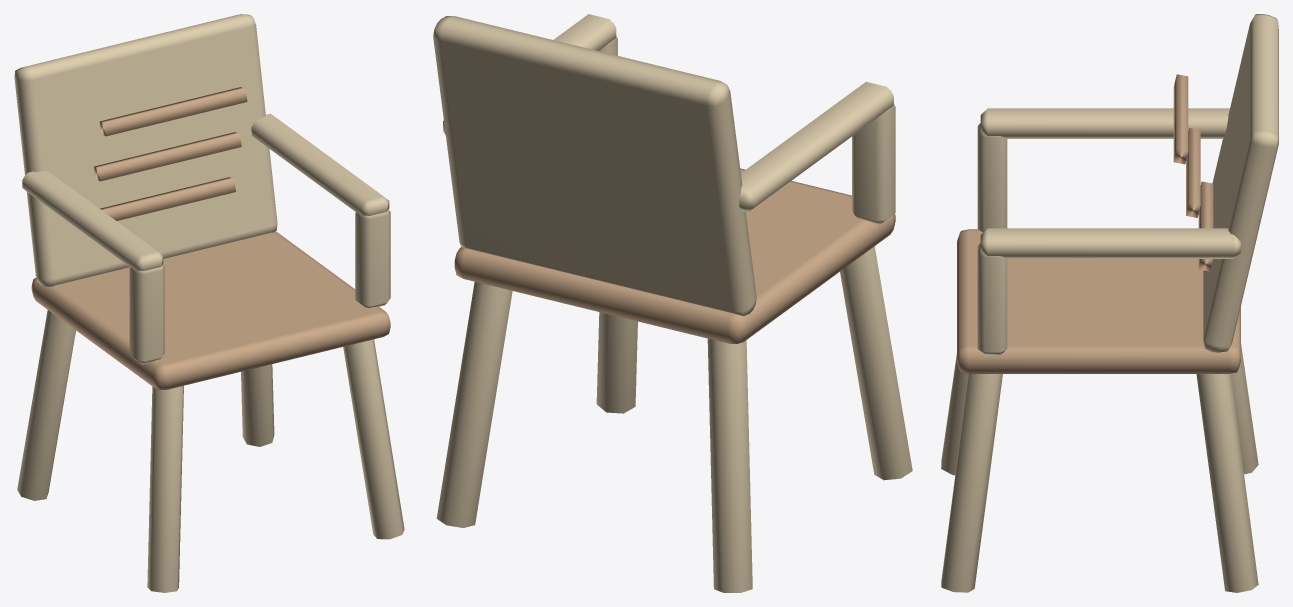
The model's file is lawn_chair.glb.
3 views of the same model, side by side, from view 1: azimuth 30°, elevation 25°; view 2: azimuth 150°, elevation 25°; view 3: azimuth 270°, elevation 25° (orthographic). The views are drawn at different scales.
Parts seen in each view (by area): view 1: Chair; view 2: Chair; view 3: Chair.
Boxes of the visible parts, x1=… form: Chair: x1=14, y1=14, x2=404, y2=592; Chair: x1=433, y1=14, x2=912, y2=592; Chair: x1=941, y1=14, x2=1278, y2=592.
Bounding box in the file's own units: 0.54 × 0.8511 × 0.5709.
